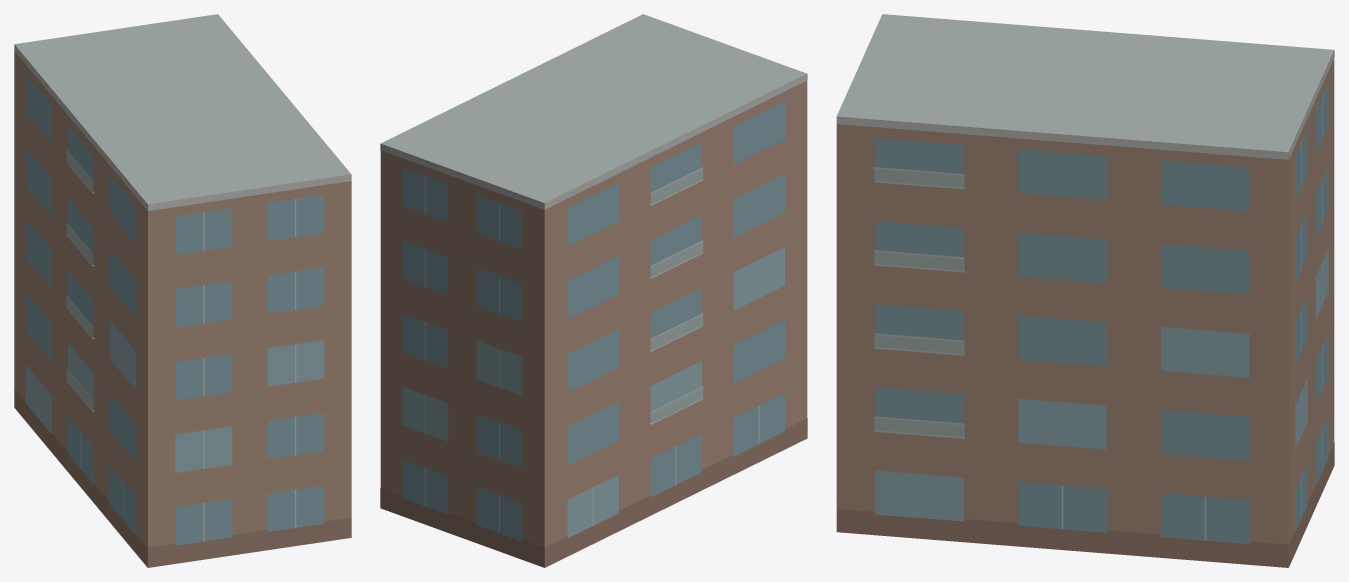
File: survey-upis-32656395.glb
The picture shows the model from 3 angles, left to right: view 1: azimuth 30°, elevation 25°; view 2: azimuth 150°, elevation 25°; view 3: azimuth 270°, elevation 25°; orthographic projection. The views are drawn at different scales.
Parts seen in each view (by area): view 1: survey-upis-32656395.tmp; view 2: survey-upis-32656395.tmp; view 3: survey-upis-32656395.tmp.
Part boxes in pixels (x1,y1,x2,y2): survey-upis-32656395.tmp: (14,14,351,567); survey-upis-32656395.tmp: (380,14,807,567); survey-upis-32656395.tmp: (836,14,1334,567).
Bounding box in the file's own units: 9.53 × 13.35 × 14.51.
